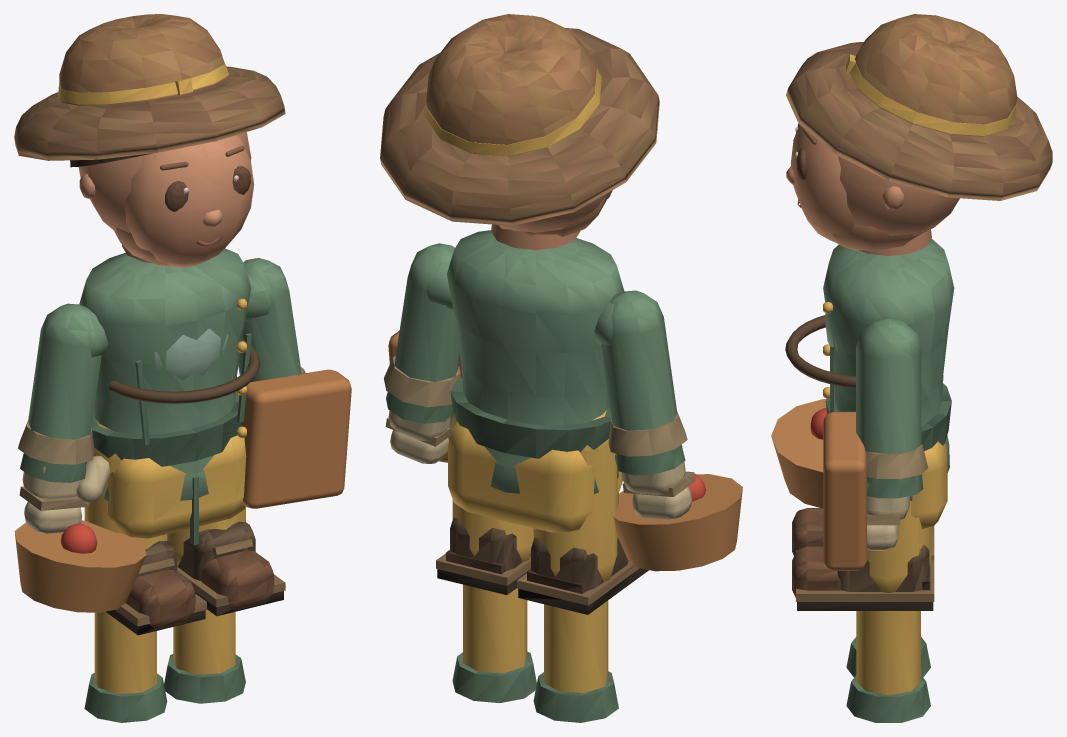
File: kang-taeho.glb
The picture shows the model from 3 angles, left to right: view 1: azimuth 30°, elevation 25°; view 2: azimuth 150°, elevation 25°; view 3: azimuth 270°, elevation 25°; orthographic projection. The views are drawn at different scales.
Parts seen in each view (by area): view 1: coat, hat, legs, figureDetail, fieldSatchel, armLeftMesh, trousers, harvestBasket, handLeftMesh, armRightMesh, fieldSatchelStrap, tomatoSample; view 2: hat, coat, legs, armLeftMesh, trousers, harvestBasket, armRightMesh, handLeftMesh, handRightMesh, figureDetail, neck; view 3: hat, legs, coat, figureDetail, armRightMesh, fieldSatchel, harvestBasket, handRightMesh, trousers, fieldSatchelStrap, neck.
Boxes of the visible parts, x1,y1,x2,y2 form: coat: (79,248,251,500); hat: (14,14,285,160); legs: (84,419,285,722); figureDetail: (70,87,254,267); fieldSatchel: (238,369,351,508); armLeftMesh: (20,303,108,482); trousers: (108,435,246,545); harvestBasket: (14,520,146,612); handLeftMesh: (18,421,110,533); armRightMesh: (238,258,301,381); fieldSatchelStrap: (108,339,260,403); tomatoSample: (60,523,97,553); hat: (380,14,659,225); coat: (447,230,624,493); legs: (436,393,648,722); armLeftMesh: (594,290,685,475); trousers: (448,421,622,532); harvestBasket: (613,474,742,571); armRightMesh: (386,243,460,423); handLeftMesh: (608,411,695,519); handRightMesh: (384,355,460,463); figureDetail: (498,190,612,236); neck: (491,224,580,250); hat: (786,14,1052,200); legs: (792,501,934,722); coat: (823,238,954,500); figureDetail: (786,123,959,251); armRightMesh: (855,318,923,498); fieldSatchel: (823,411,866,570); harvestBasket: (771,399,826,507); handRightMesh: (866,444,928,550); trousers: (911,434,947,528); fieldSatchelStrap: (785,315,855,388); neck: (859,229,931,255).
Size of the model in its own units: 1.11 by 2.21 by 0.8386.
